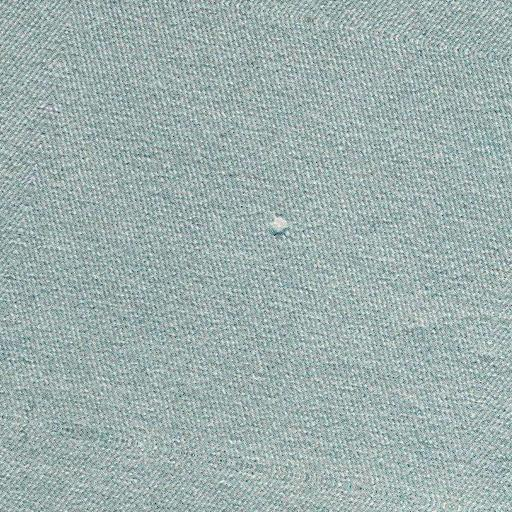knot: (258, 210, 299, 244)
